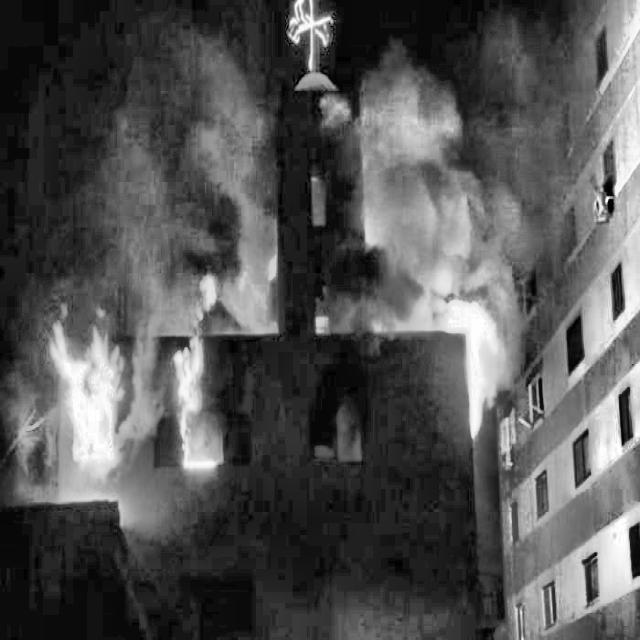fire: (17, 105, 247, 549), (434, 134, 509, 546)
